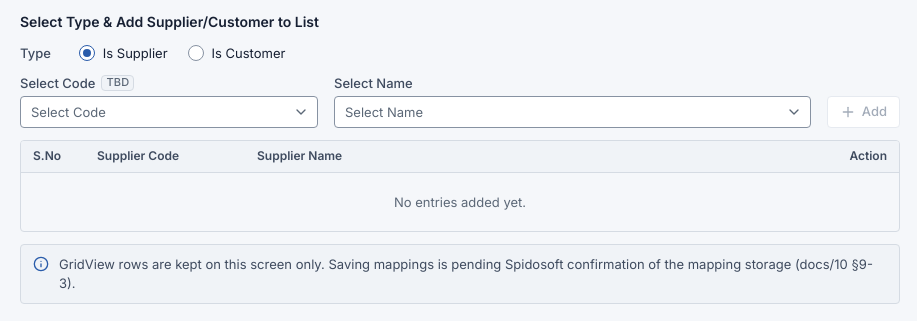
Test case: MappingSection › binds the selected supplier into the GridView on Add and resets the selectors
This screenshot has width=917, height=321.
Select "SMSP0003" in the dropdown labelled "Select Code TBD" at (169, 112), box [20,96,318,128]
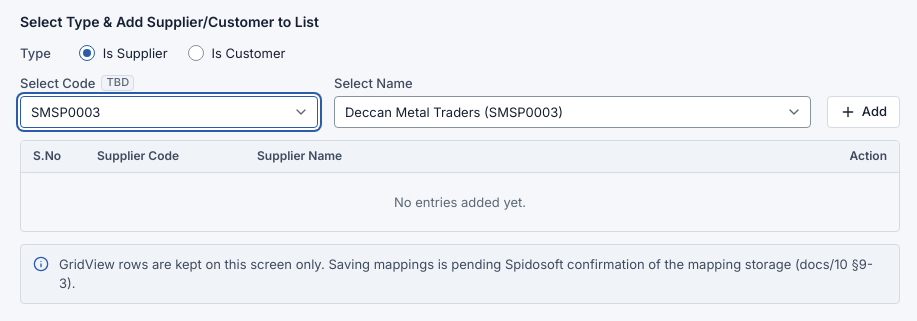
Now the button "Add" is enabled
Click the button "Add" at (863, 112), box [827,96,900,128]
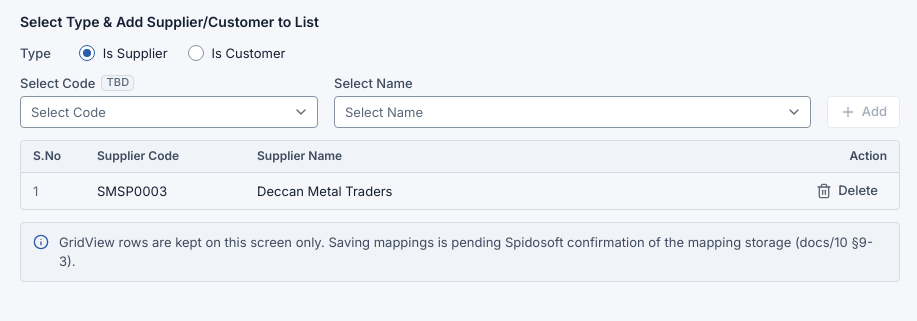
Now the cells read "1", "SMSP0003", "Deccan Metal Traders", "Delete", in this order, box [21,173,85,209]; [85,173,245,209]; [245,173,787,209]; [787,173,899,209]
Now the button "Add" is disabled, box [827,96,900,128]
